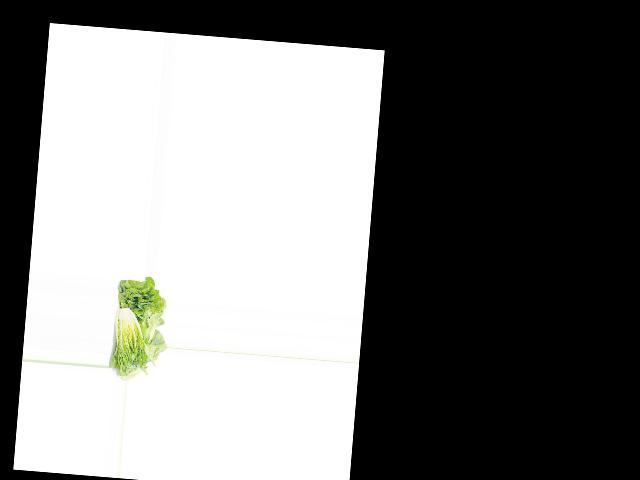lettuce: (110, 275, 168, 341)
